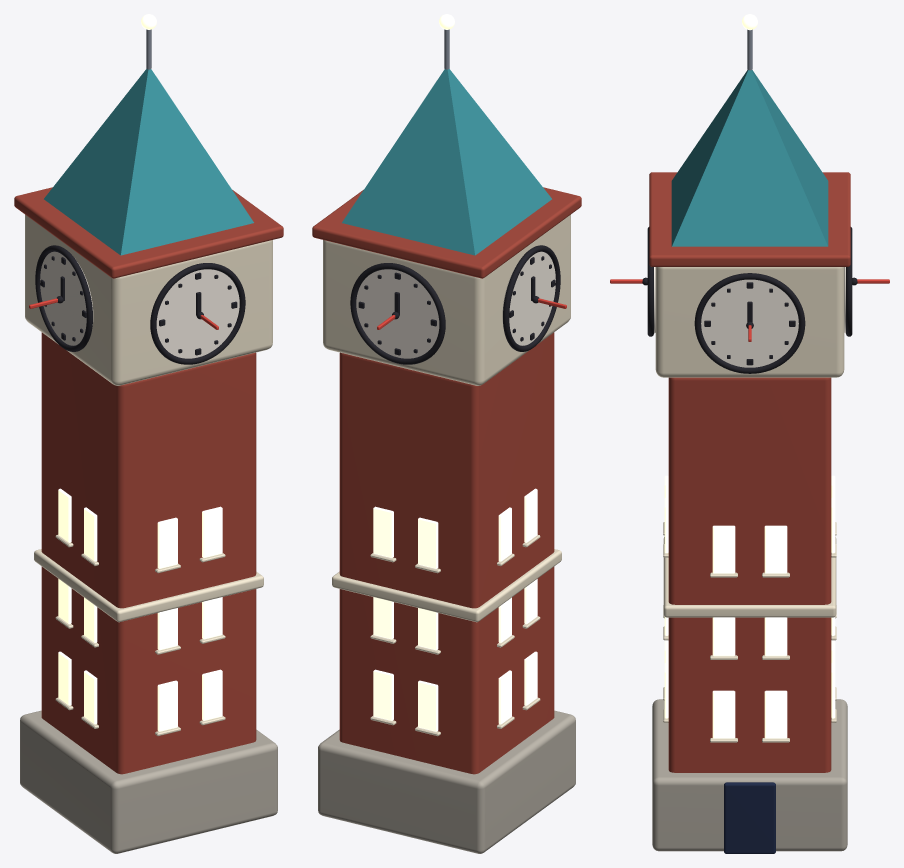
The model's file is clock_tower.glb.
3 views of the same model, side by side, from view 1: azimuth 30°, elevation 25°; view 2: azimuth 150°, elevation 25°; view 3: azimuth 270°, elevation 25° (orthographic).
Visible parts, largest first — view 1: clock_tower.006; view 2: clock_tower.006; view 3: clock_tower.006.
Part boxes in pixels (left/top/right/bottom): clock_tower.006: left=14, top=14, right=283, bottom=853; clock_tower.006: left=312, top=14, right=581, bottom=853; clock_tower.006: left=647, top=14, right=852, bottom=853.
Bounding box in the file's own units: 8.6 × 27.05 × 8.6.
Materials: 1 (1 with a texture image).
